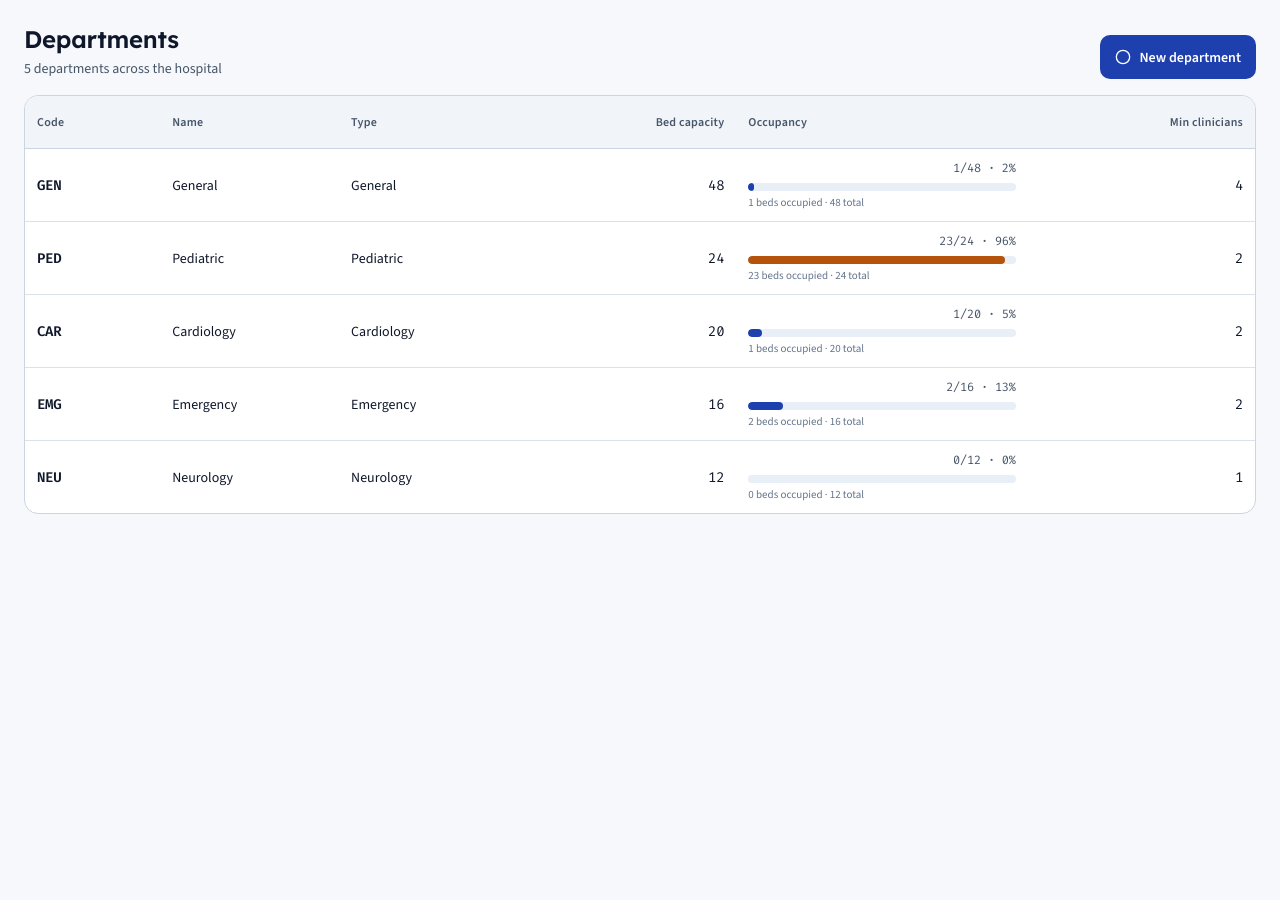
Test case: DepartmentsPage (#9) › opens the new-department modal
Click the button "New department": (1178, 57) [1100,35,1256,79]
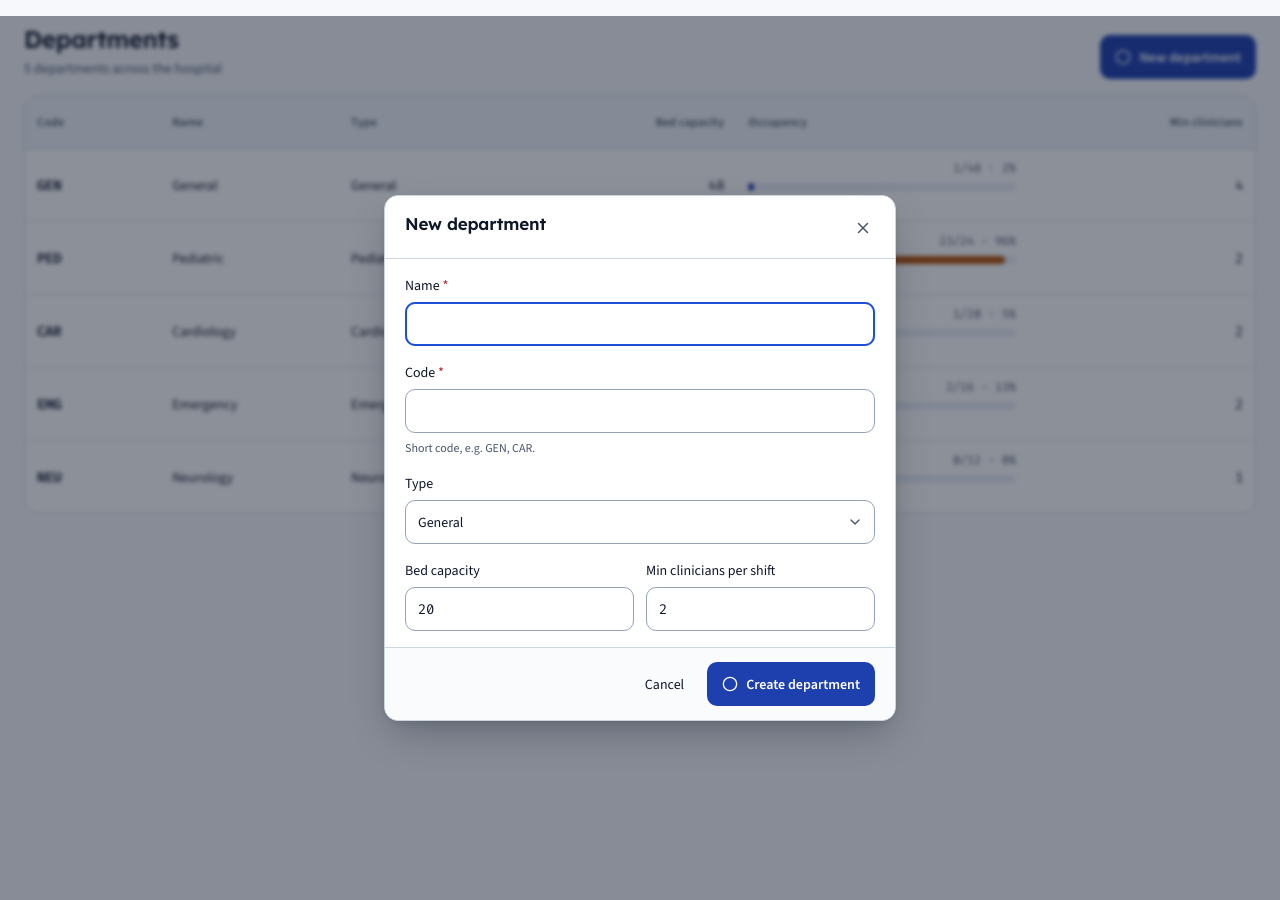
expect the field labelled "Name *" is shown: met, box [405,302,875,346]
expect the field labelled "Code *" is shown: met, box [405,389,875,433]
